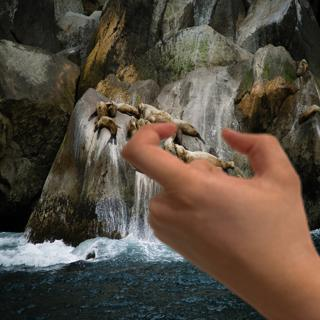HATE: (111, 114, 320, 304)
